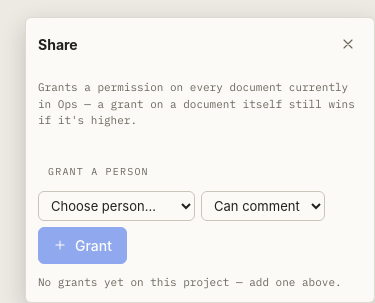
Test: ProjectSharePanel — grant a person › disables Grant until a person is picked
(page scrolled)
Expected: the text "Grant a person" is shown, [48,164,149,178]
Expected: the button "Grant" is disabled, [38,226,127,264]
Select "Ada Lovelace" in the dropdown named "Grant to" at point(116, 206), box [38,190,195,220]
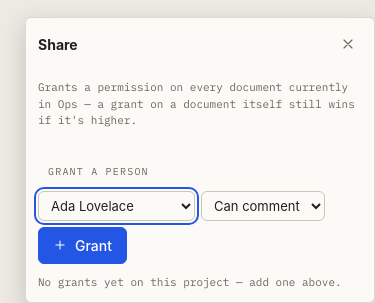
Expected: the button "Grant" is enabled, [38,226,127,264]
